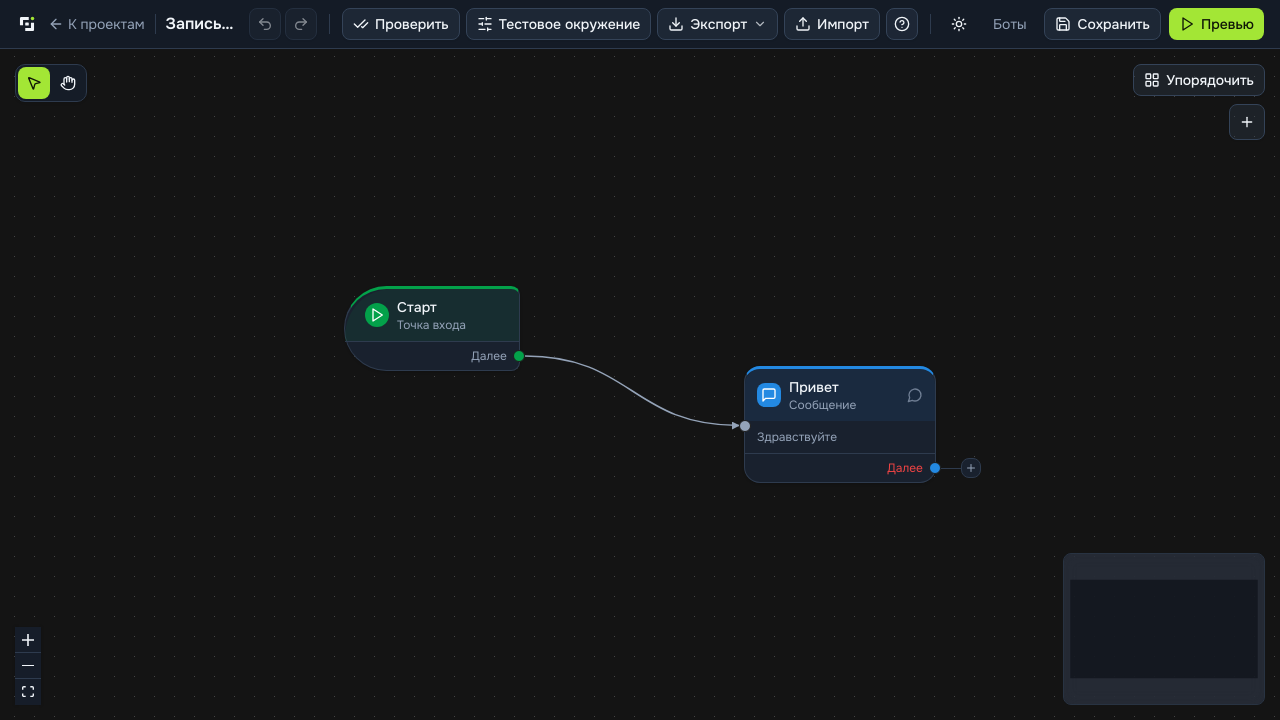
Test: EditorPage — превью и тестовое окружение › кнопка «Тестовое окружение» открывает диалог с переменными проекта
Expected: the text "Привет" is shown, [789,378,839,396]
Click the button "Тестовое окружение": (559,24) [466,8,651,40]
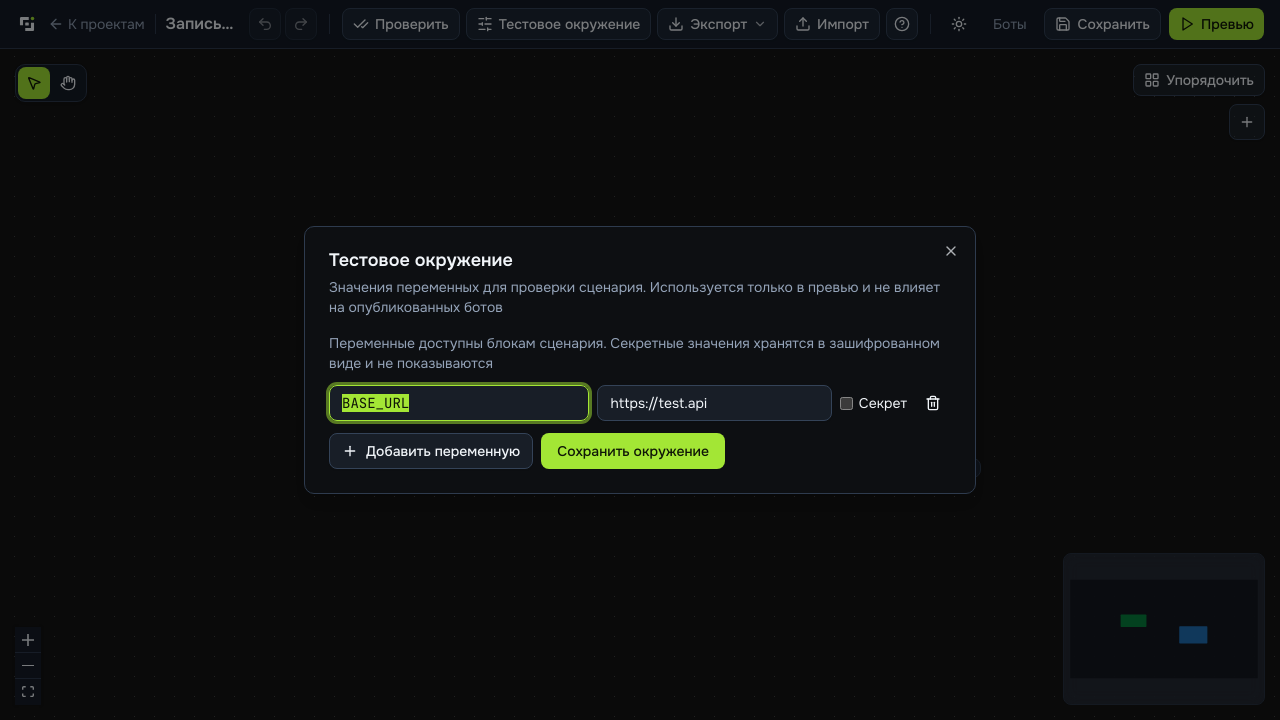
Expected: the text "Значения переменных для проверки сценария. Используется только в превью и не влияет на опубликованных ботов" is shown, [329,278,940,316]
Expected: the field showing "BASE_URL" is shown, [329,385,589,421]
